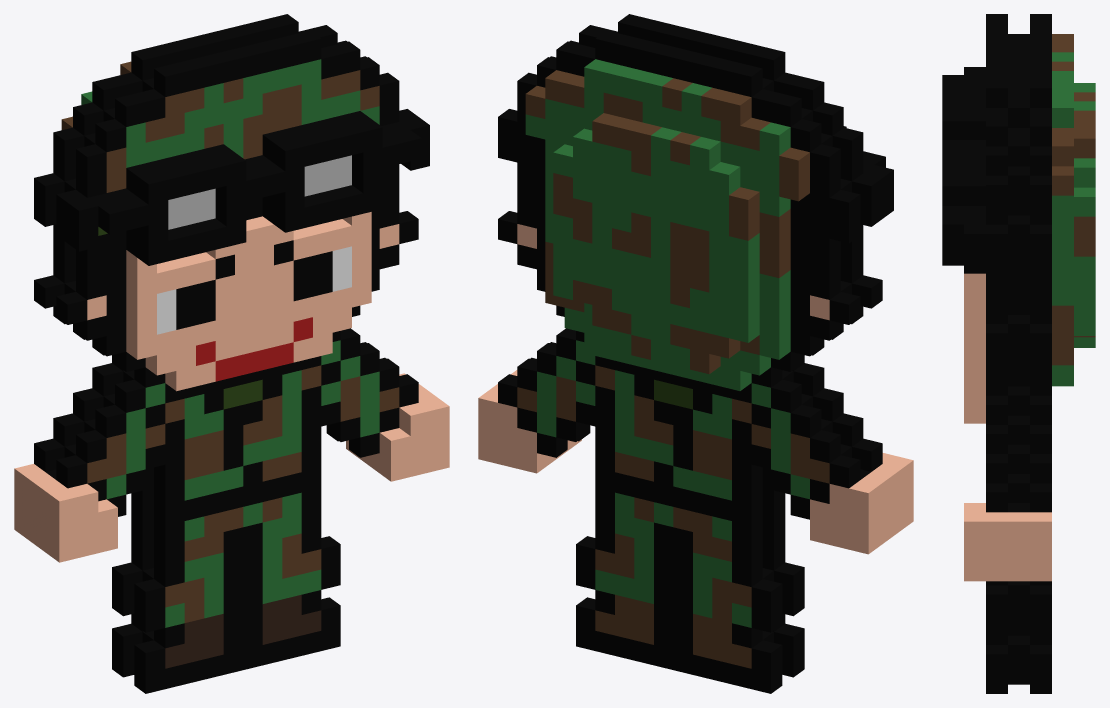
File: 4 Sergeant.obj
3 views of the same model, side by side, from view 1: azimuth 30°, elevation 25°; view 2: azimuth 150°, elevation 25°; view 3: azimuth 270°, elevation 25° (orthographic). The views are drawn at different scales.
Size of the model in its own units: 2 by 3 by 0.7.
1 material, 1 textured.
